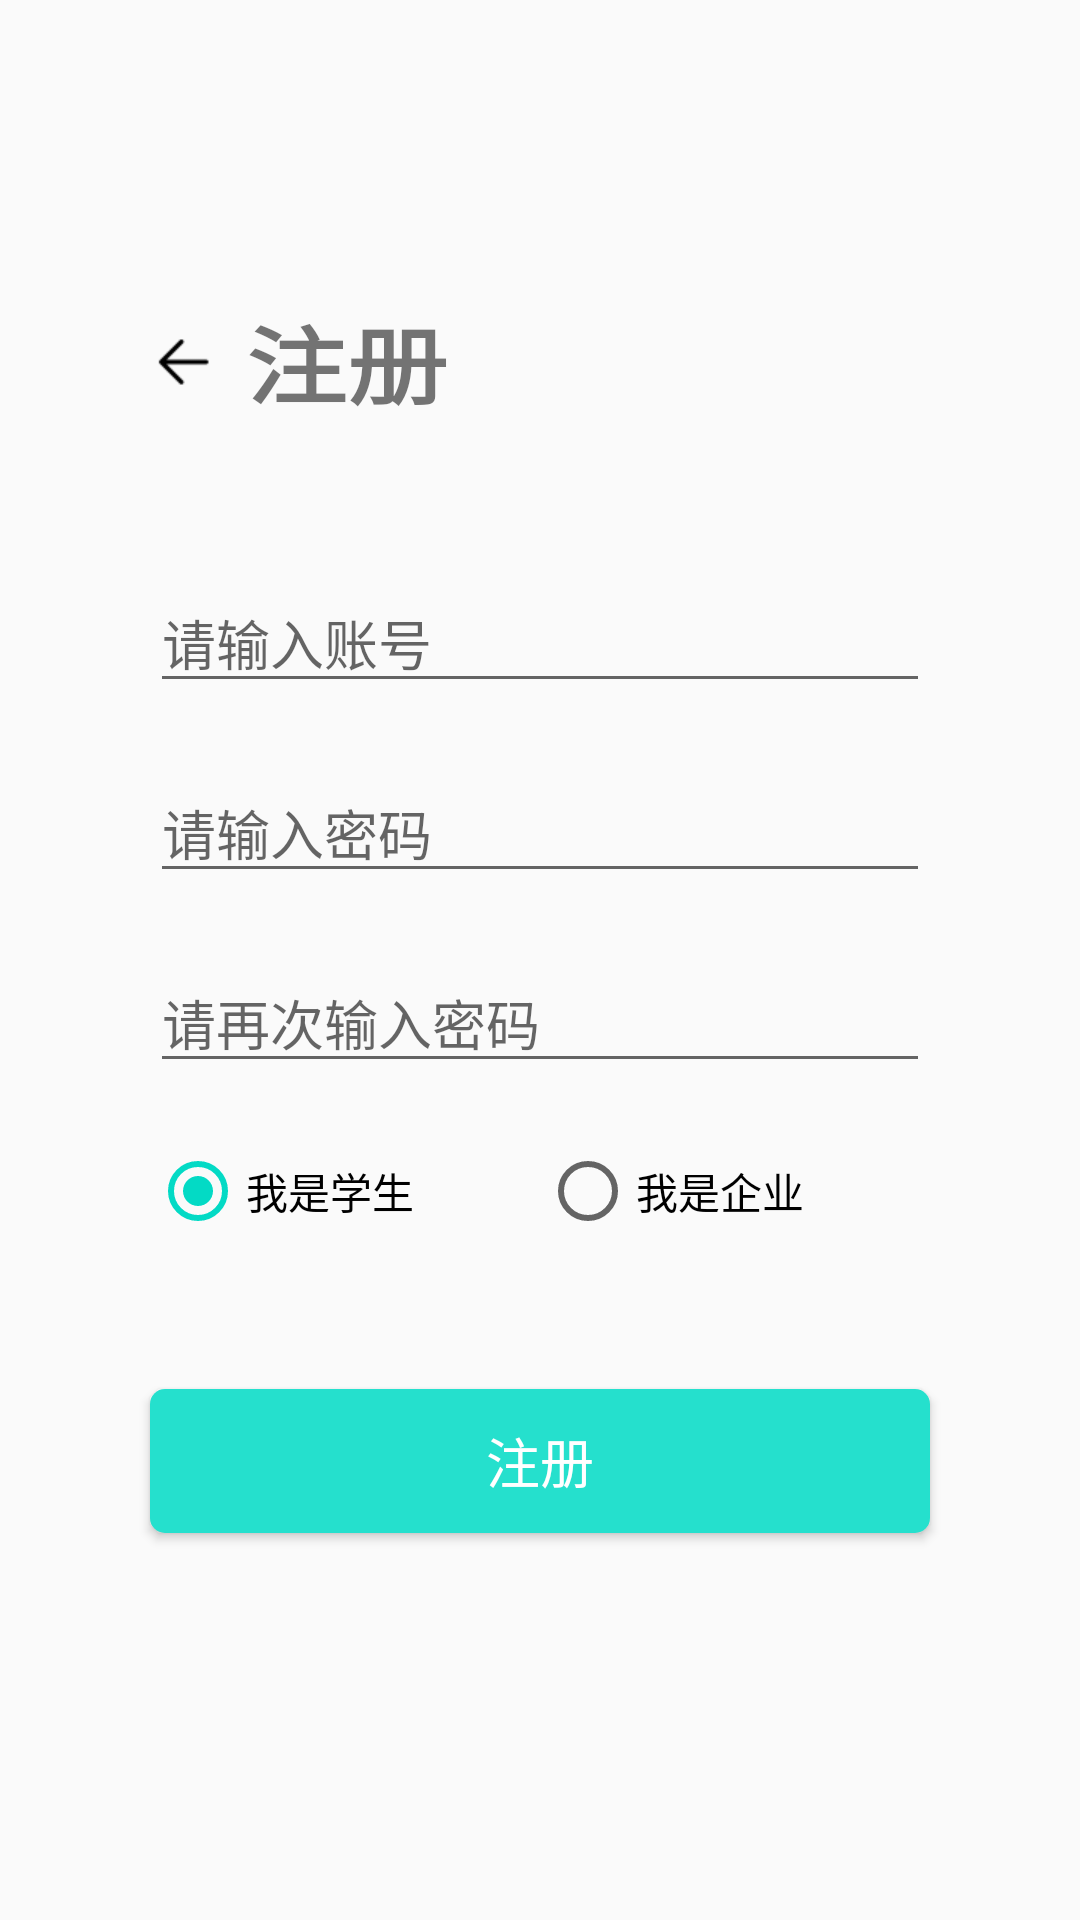

Named icons in this screenshot (1080 × 1920) and their bounding boxes, (left=x1, top=y1, right=x2, bottom=y2):
back: (left=158, top=339, right=209, bottom=385)
